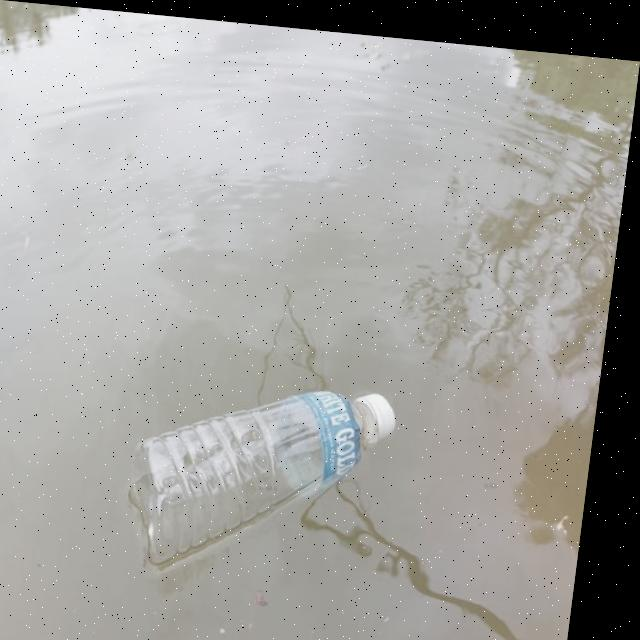waterbottle: (109, 335, 421, 590)
